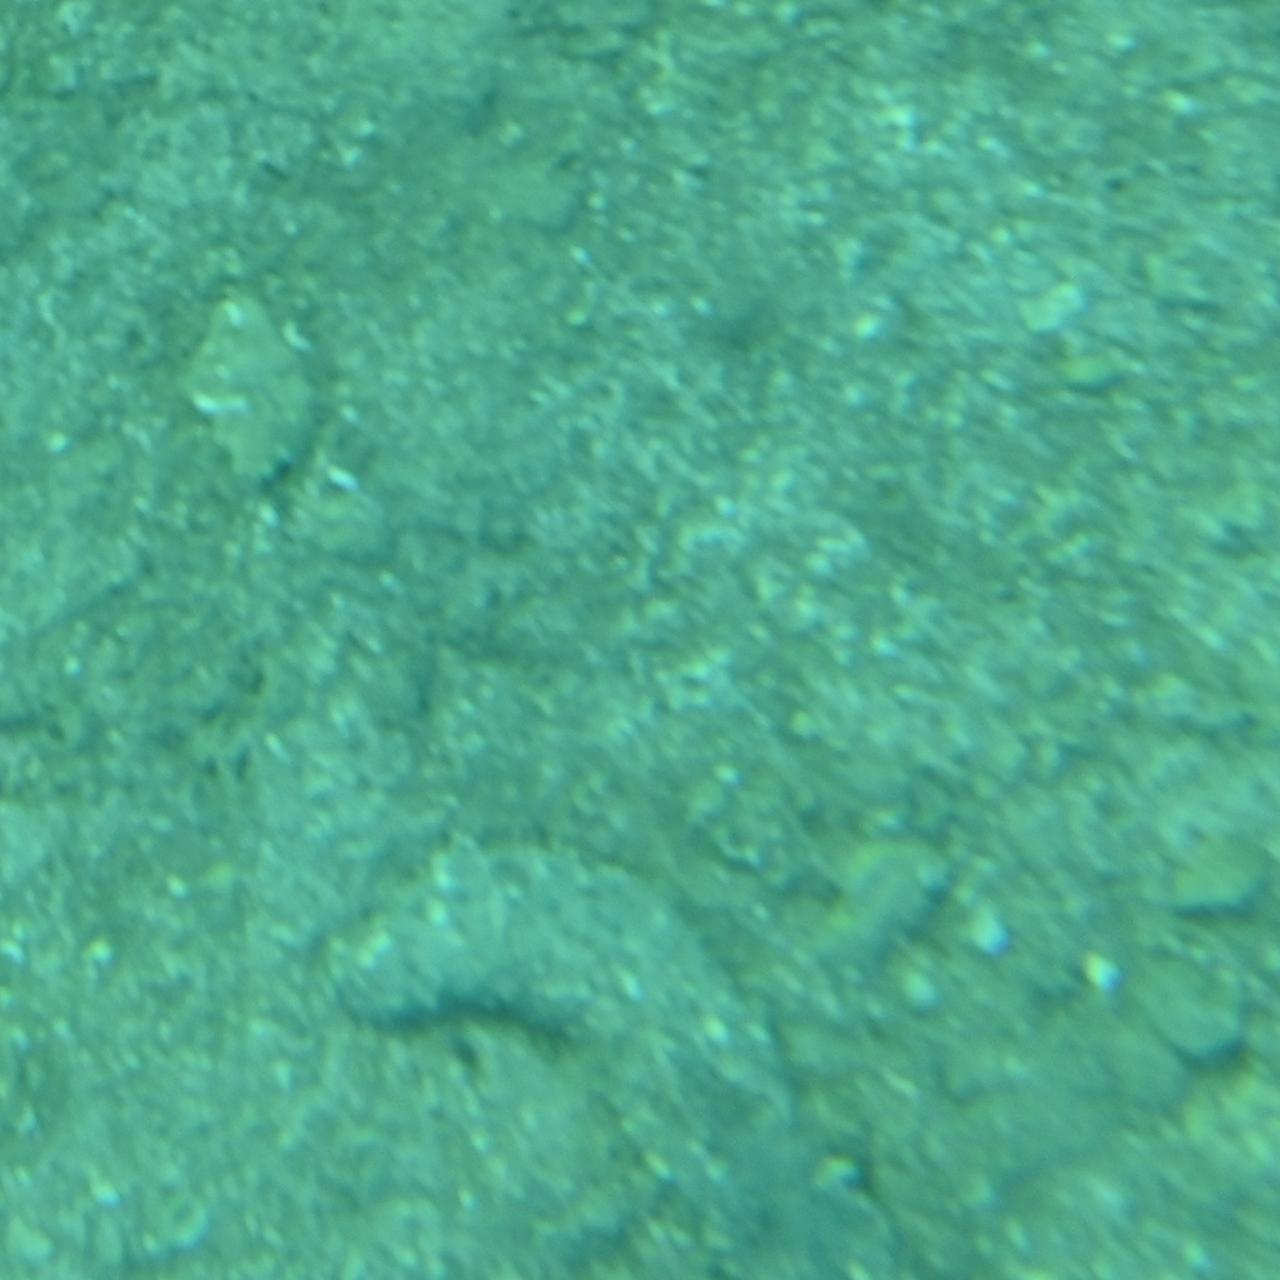Holothuria tubulosa: (331, 827, 949, 1279)
